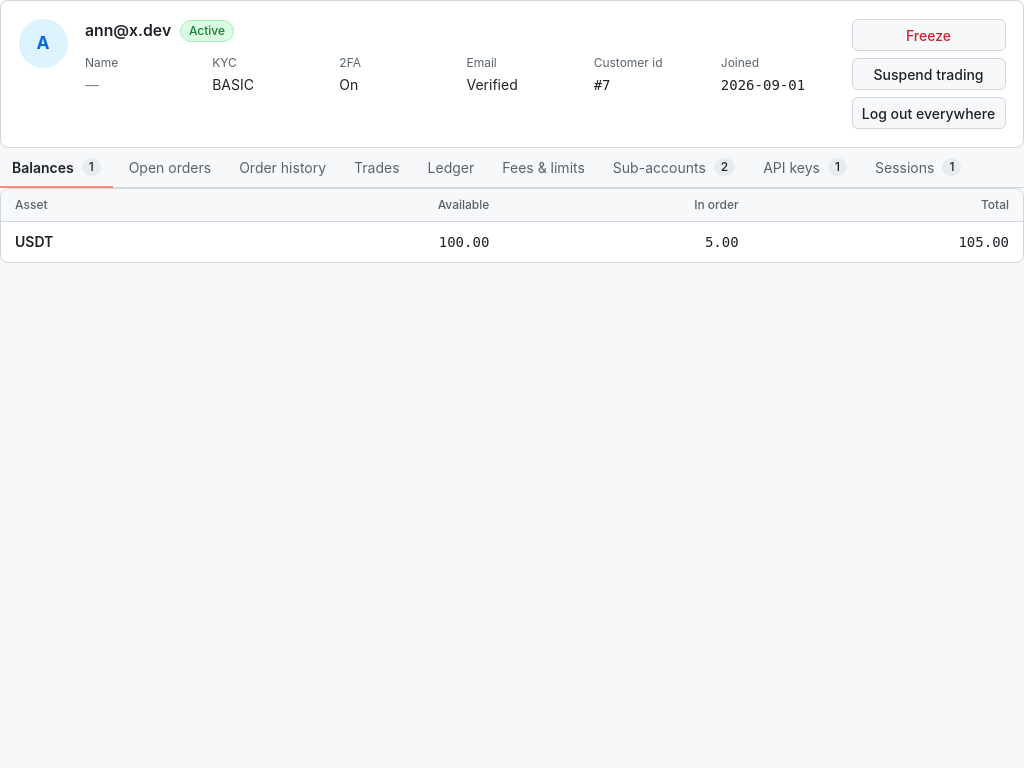
Test: Customer detail › suspends trading with a reason, saying what still works and that orders stay
Click the button "Suspend trading". click: (928,74)
box: [852,58,1006,90]
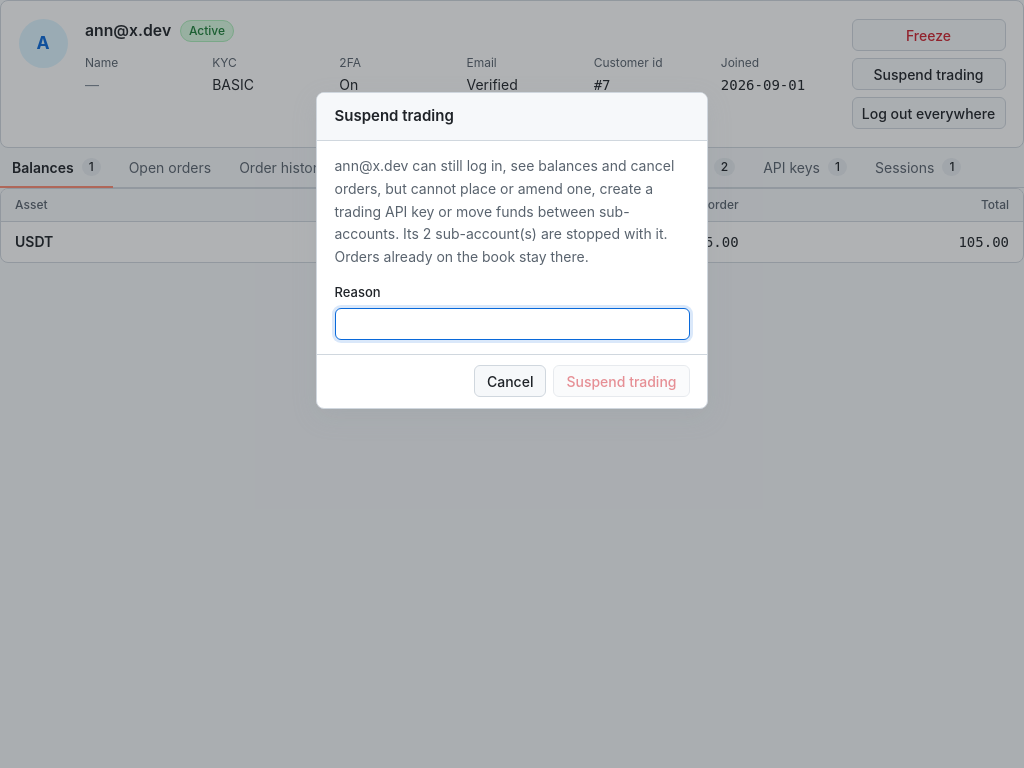
Expected: the dialog shows "cancel orders", [334,157,674,265]
Expected: the dialog shows "Orders already on the book stay there", [334,157,674,265]
Expected: the dialog shows "2 sub-account(s) are stopped with it", [334,157,674,265]
Type "wash trading review" into the field labelled "Reason". click: (512,324)
box: [334,308,690,340]
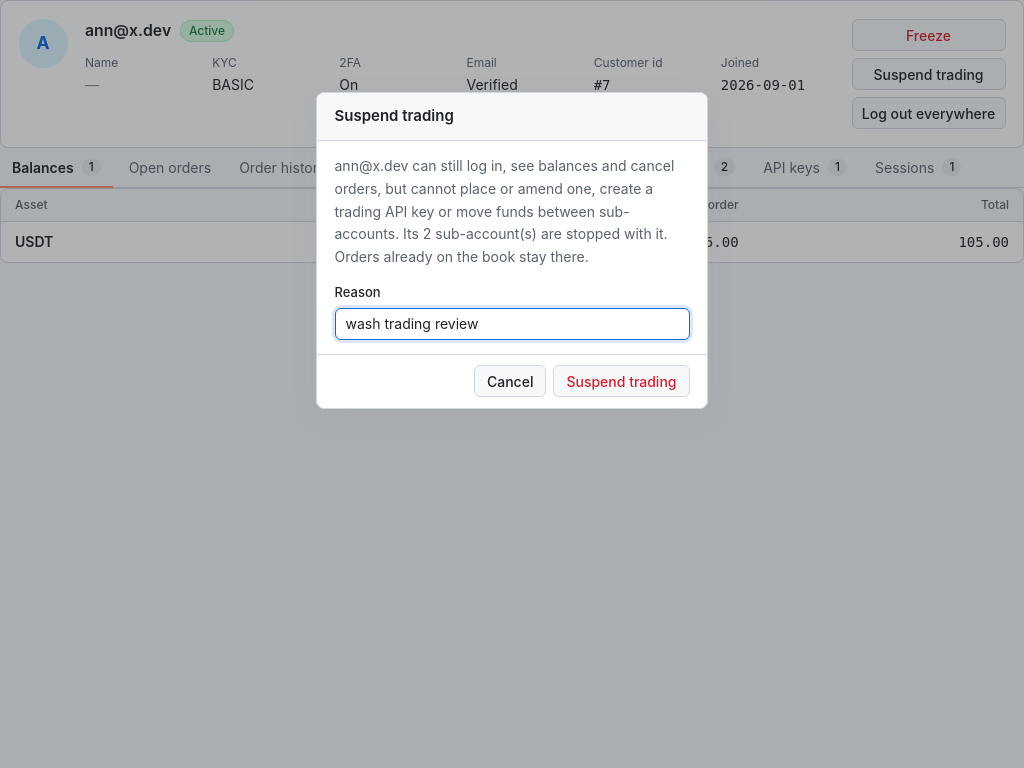
Click the button "Suspend trading". click: (622,381)
box: [554,365,690,397]
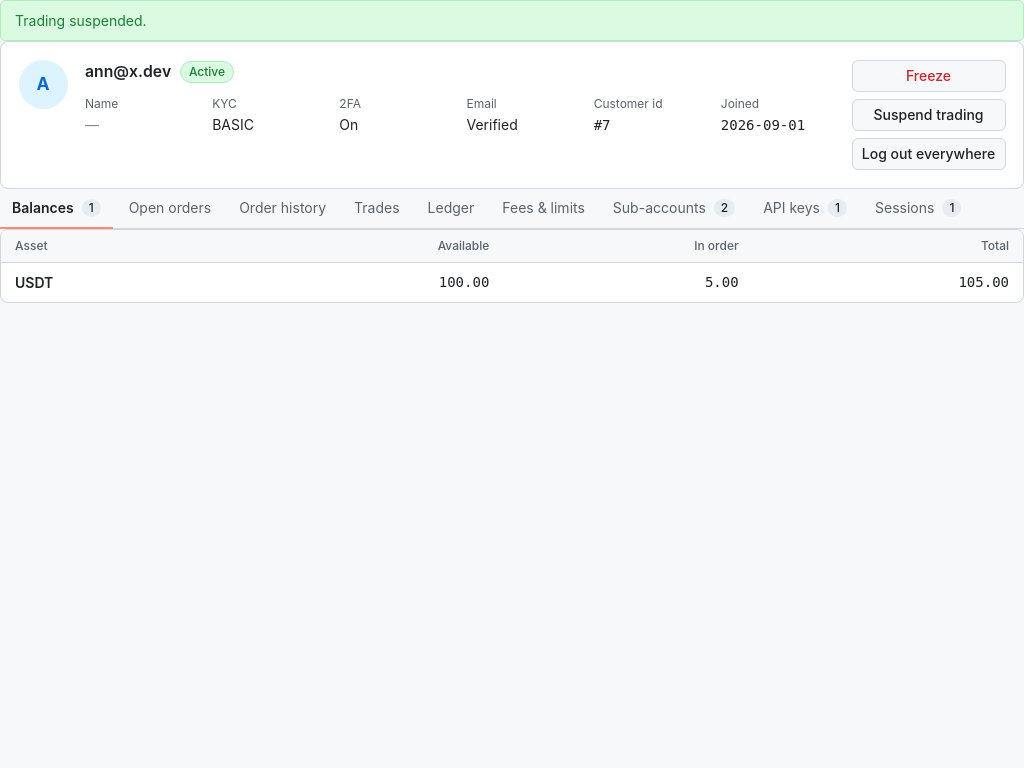
Expected: the message reads "Trading suspended.", [15,12,146,29]
